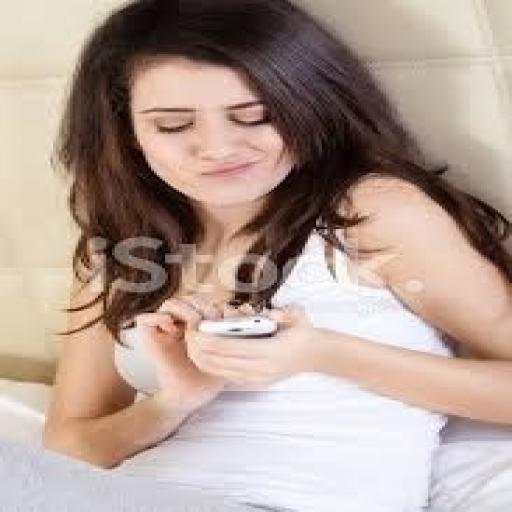texting: (39, 0, 509, 510)
